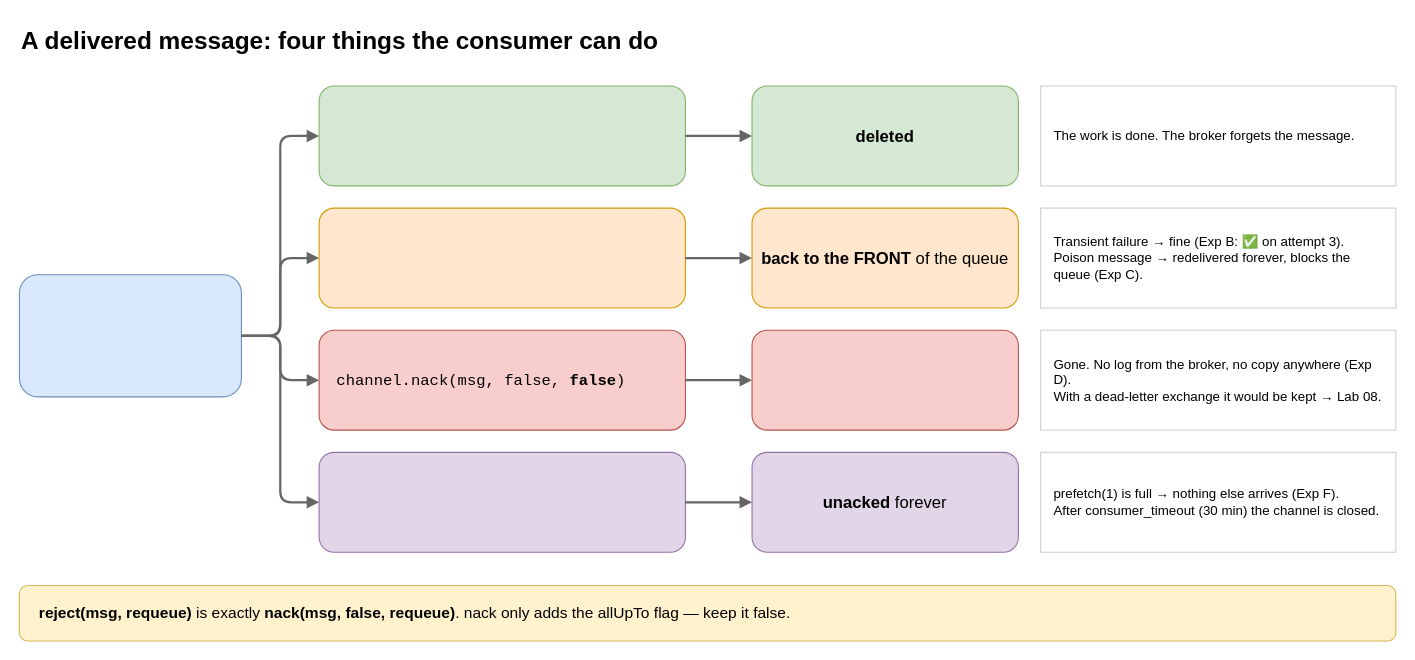
Some shapes in this 1415 by 660 pixel diagram are drawn without their labels. Each missing label, with the centre of its shape:
"// no ack, no nack" goes at point (501, 501).
"channel.ack(msg)" goes at point (501, 135).
"channel.nack(msg, false, true )" goes at point (501, 257).
"deleted · no DLX yet" goes at point (884, 379).
"message delivered deliveryTag 7" goes at point (129, 335).
